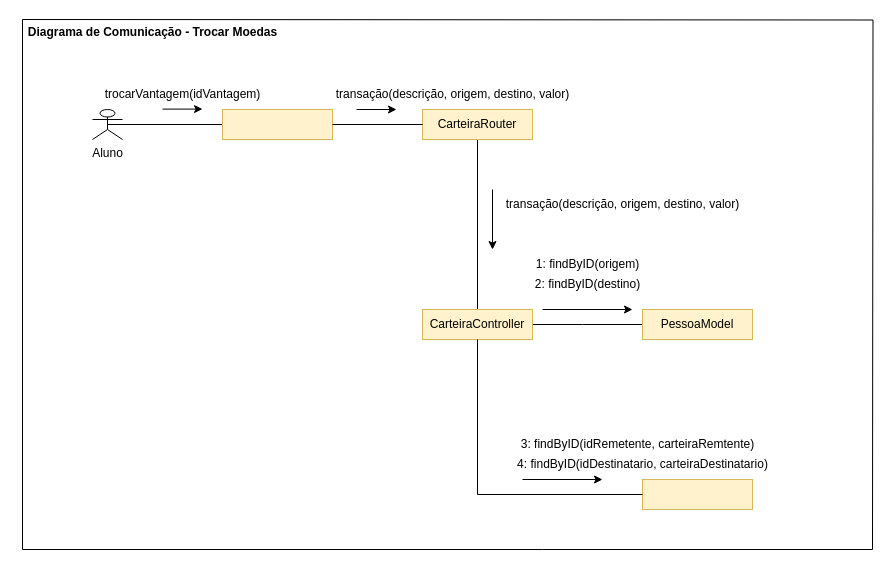
This 891x568 diagram has some shape labels left out. The box of each missing label's shape, as (x1, y1, x2, y2) in pixels:
CarteiraModel: (642, 478, 752, 510)
View: (222, 108, 332, 140)
